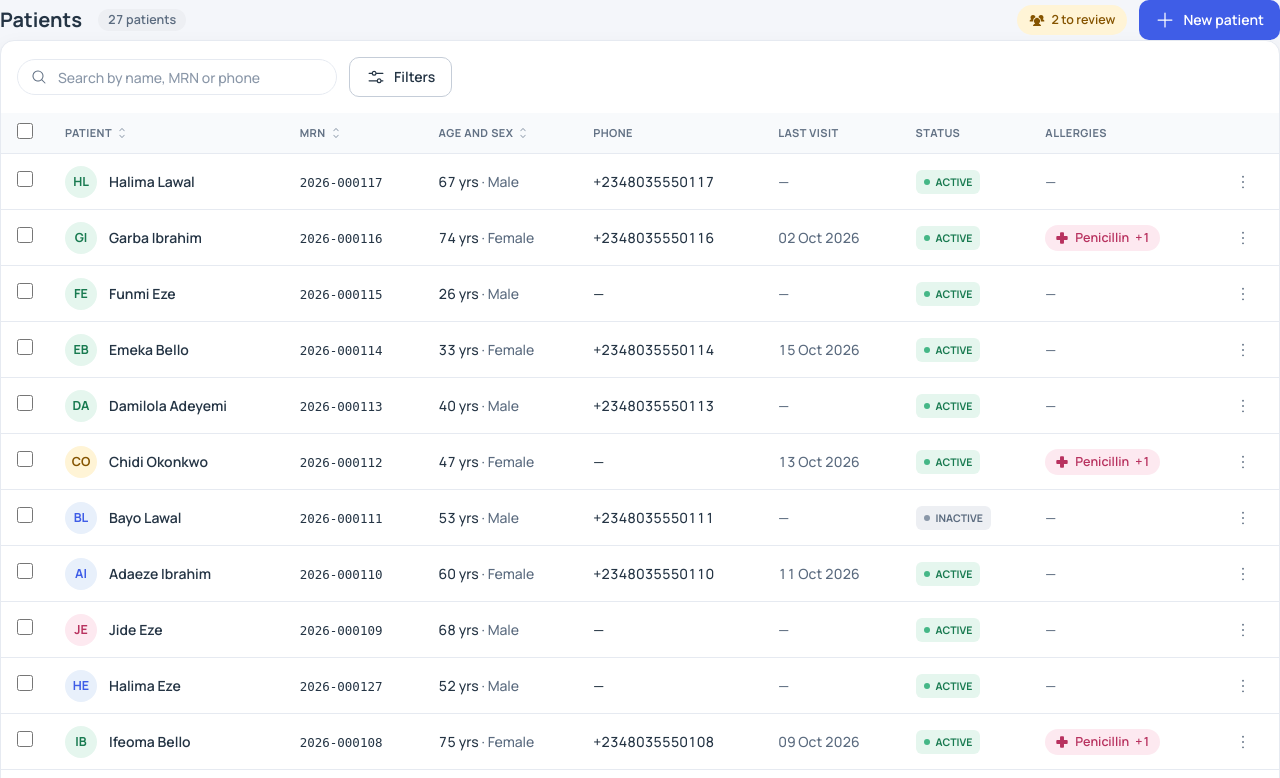
Test: patients register (mock layer) › searches by name after a short pause and says when nothing matches
# No pause between keys: each one re-renders the register, which is slow under load.
Type "adeyemi" into the search field named "Search patients by name, MRN or phone" at (177, 77), box [17,59,337,95]
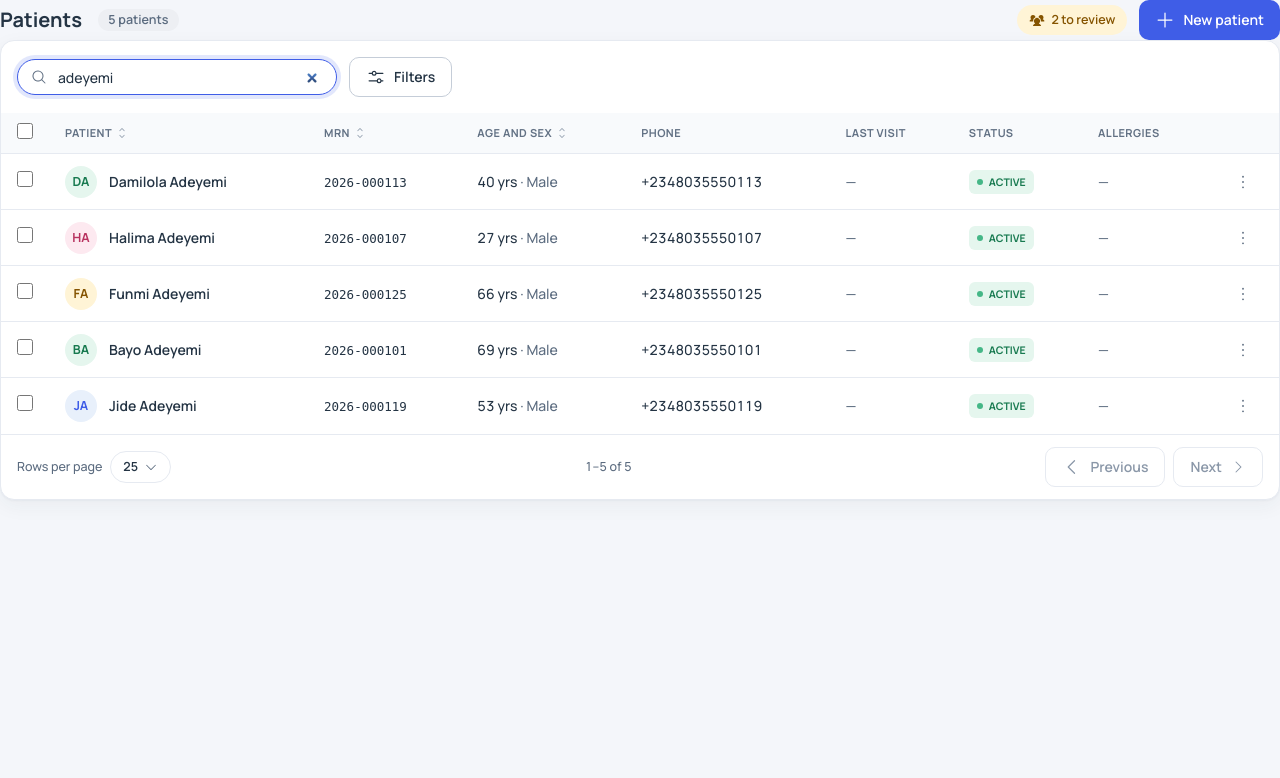
Expected: the text "5 patients" is shown, [98,9,178,31]
Replace the text in the search field named "Search patients by name, MRN or phone" with "zzzz" at (177, 77), box [17,59,337,95]
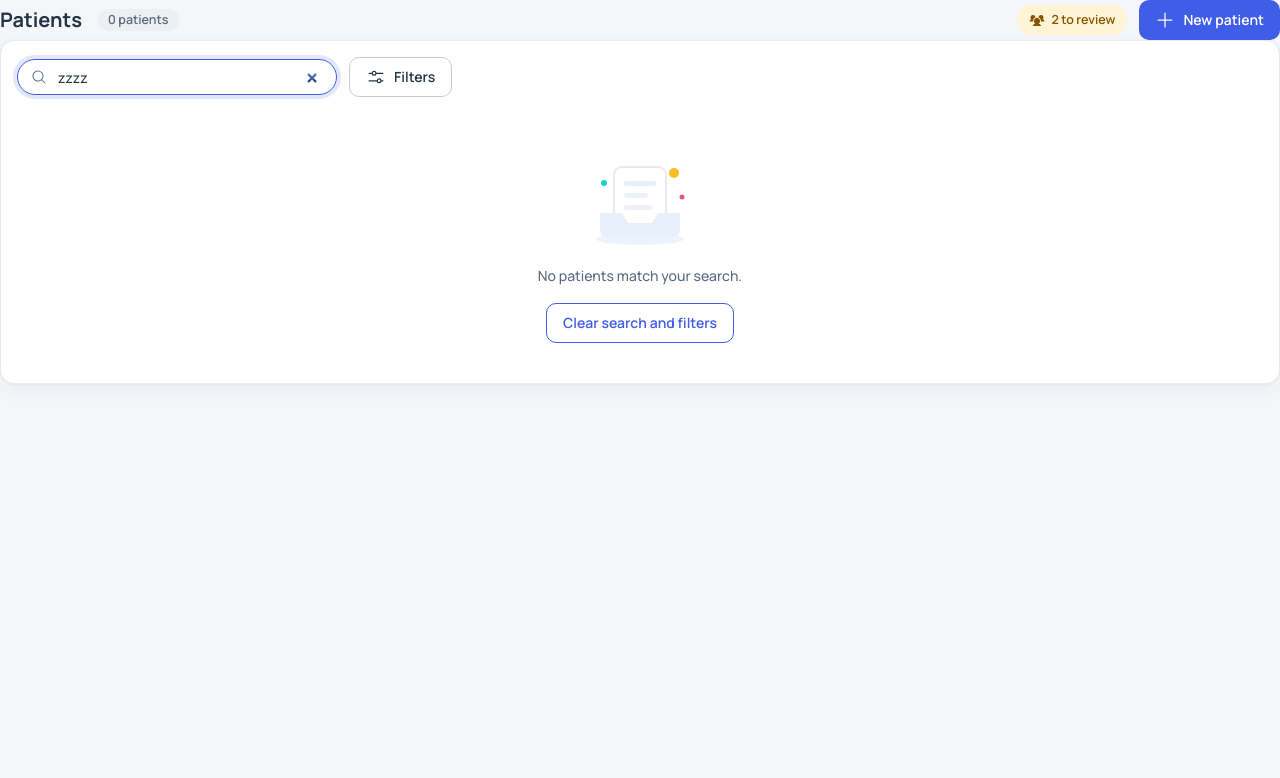
Expected: the text "No patients match your search." is shown, [538,265,742,287]
Click the button "Clear search and filters" at (640, 323), box [546,303,734,343]
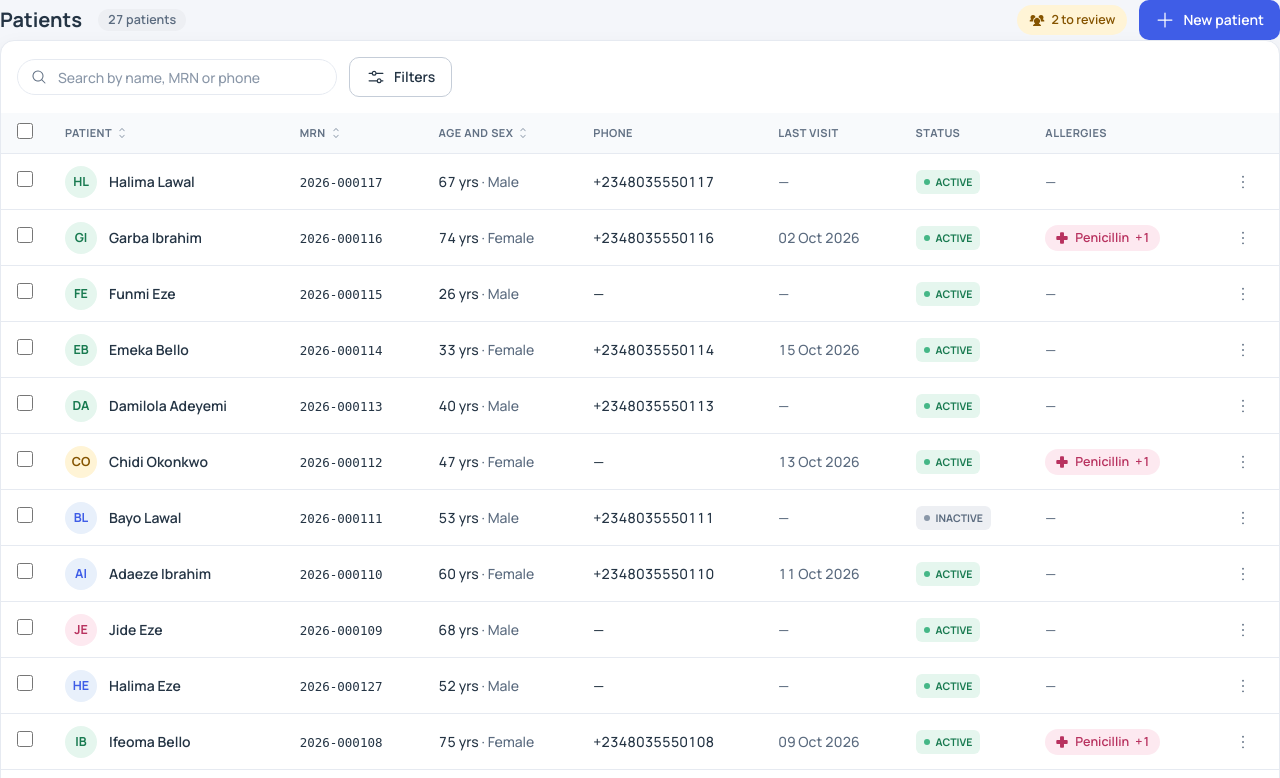
Expected: the text "27 patients" is shown, [98,9,186,31]
